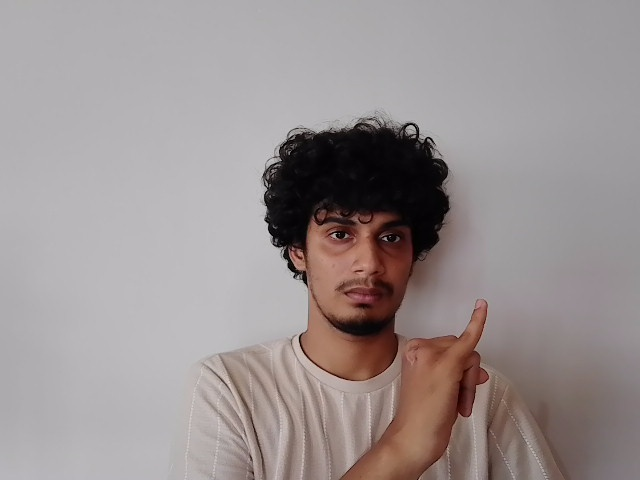bad: (395, 299, 487, 453)
